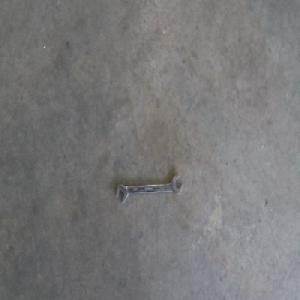Wrench: (115, 173, 182, 200)
